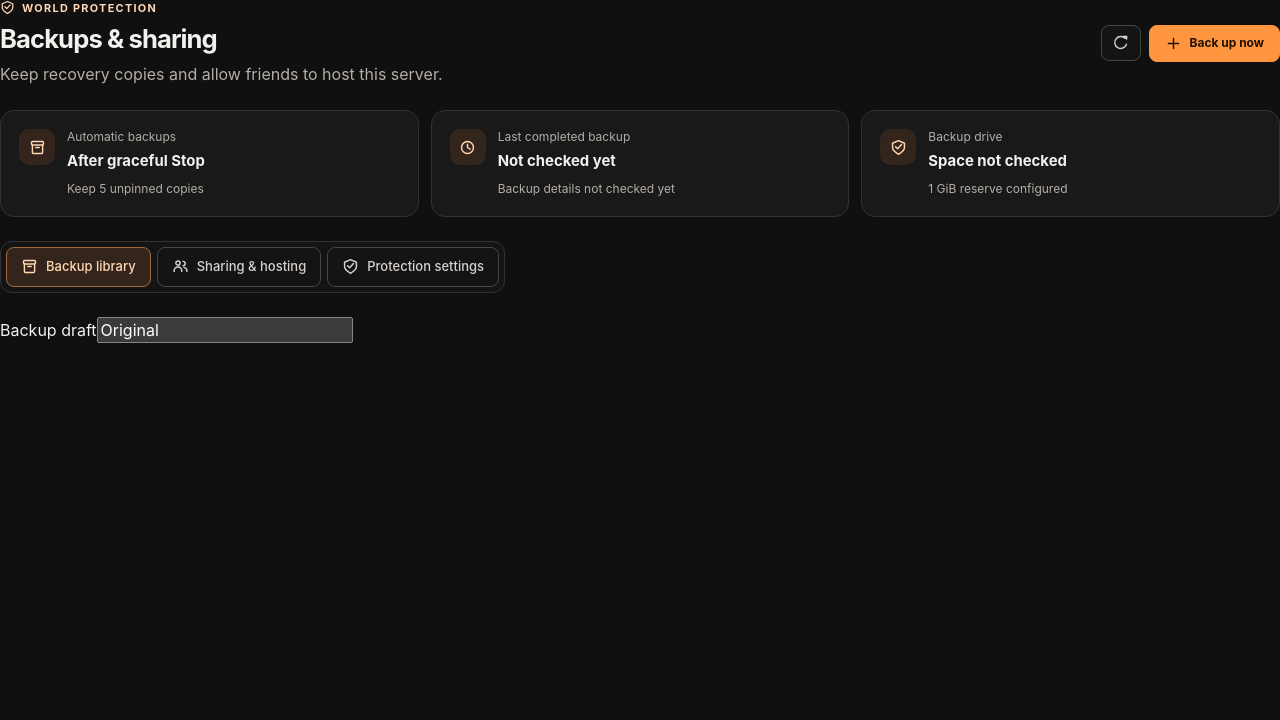
Host world protection workspace › opens a focused editor and saves only after an explicit choice
Click the button "Protection settings" at [413, 267], box [327,247,499,287]
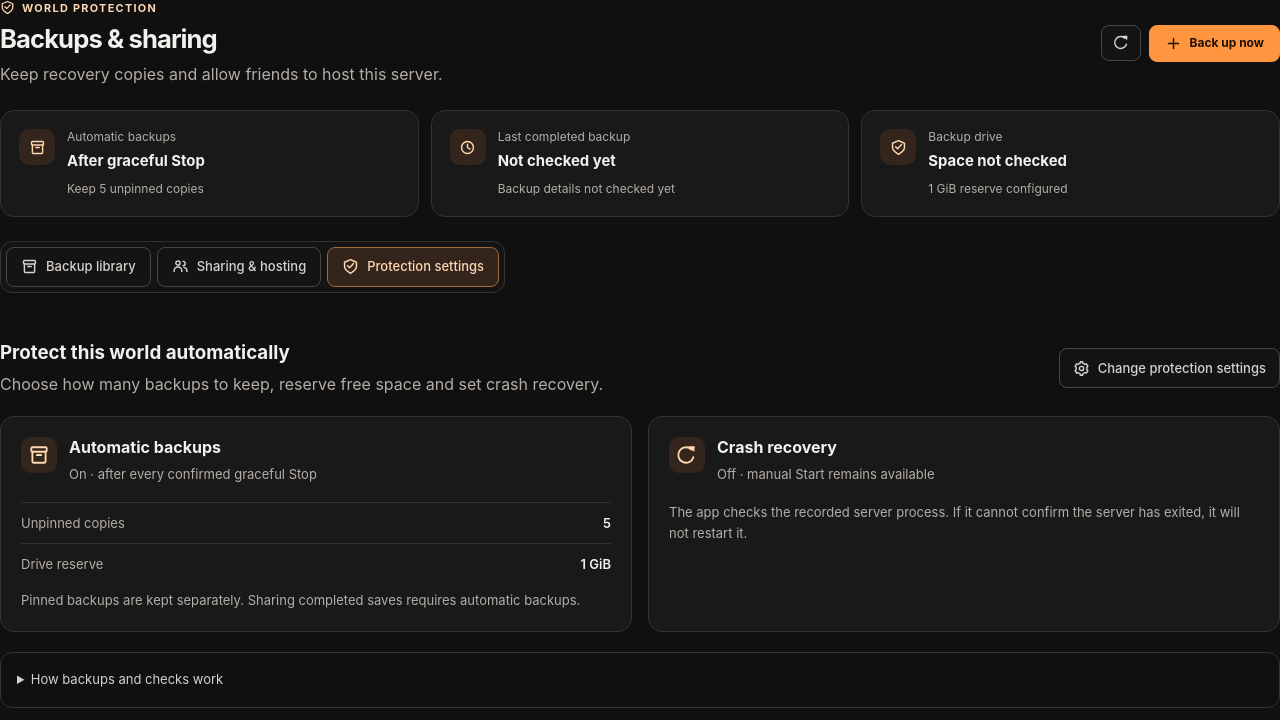
Click the button "Change protection settings" at [1169, 368], box [1059,348,1279,388]
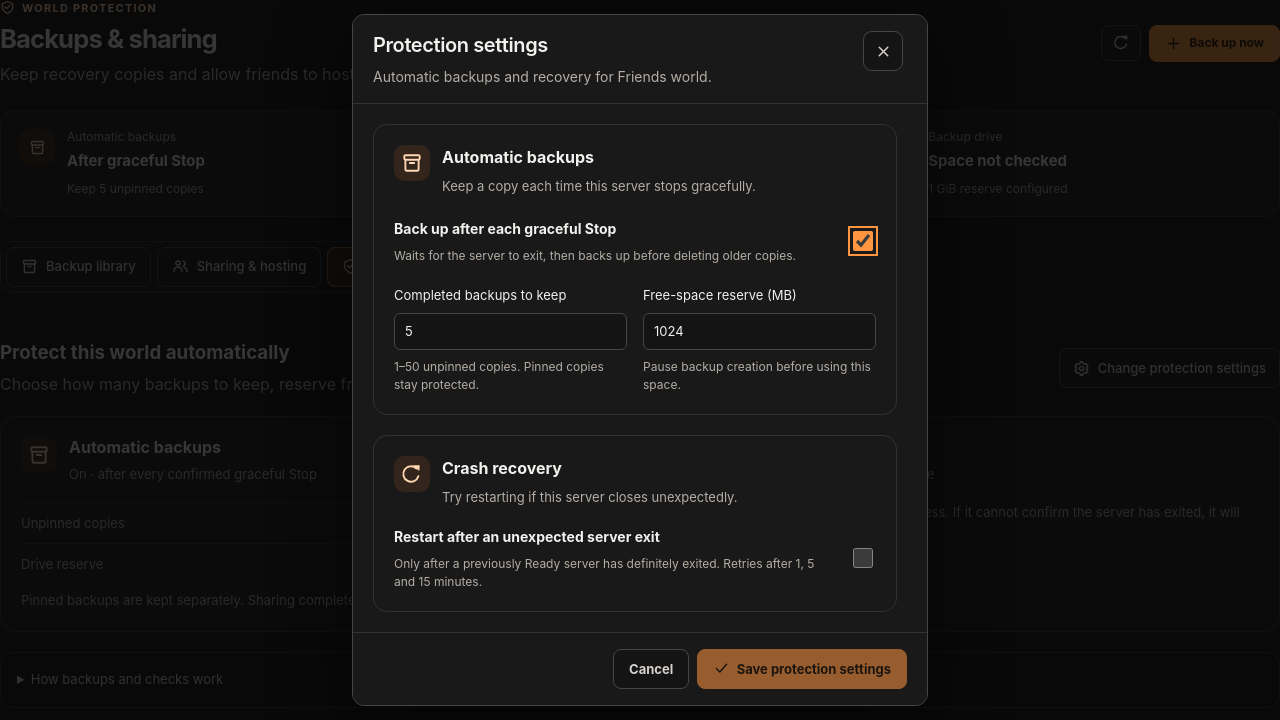
Check: the button "Save protection settings" is disabled, box [697,649,907,689]
Replace the text in the number field labelled "Completed backups to keep" with "8" at [510, 331], box [394,313,627,350]
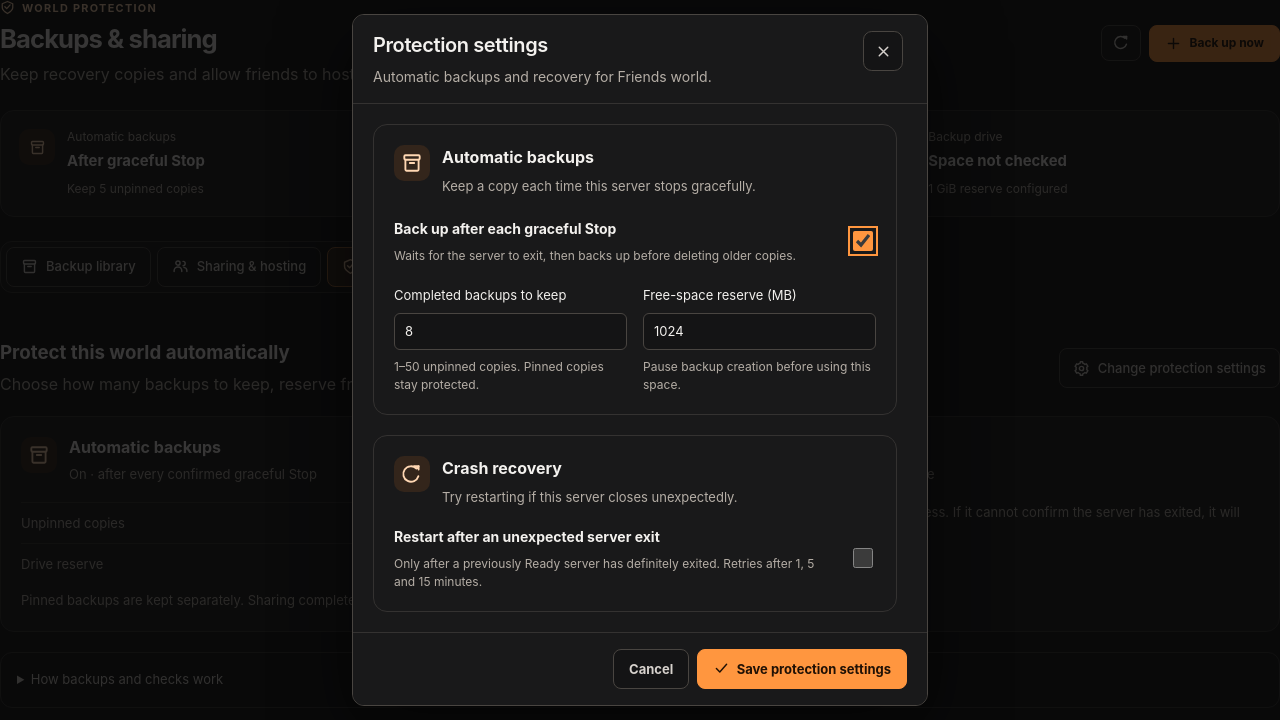
Click the checkbox labelled "Restart after an unexpected server exit" at [863, 558], box [853,548,873,568]
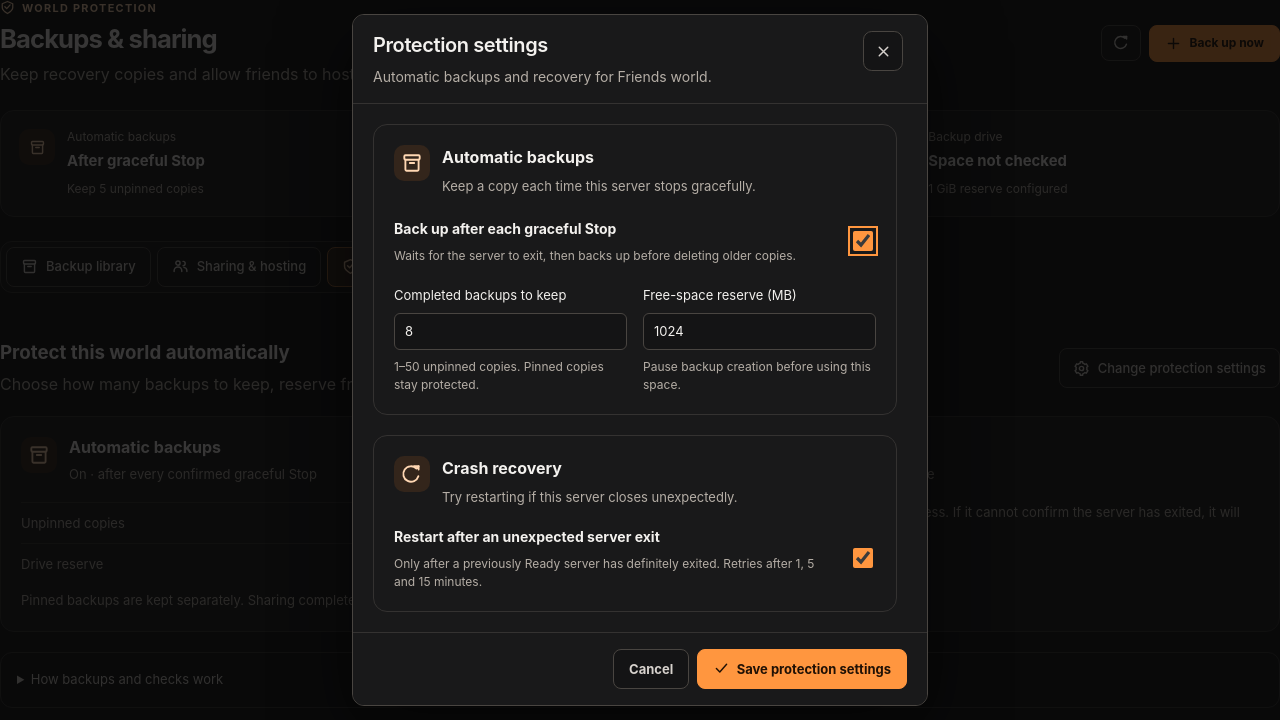
Click the button "Save protection settings" at [802, 669], box [697,649,907,689]
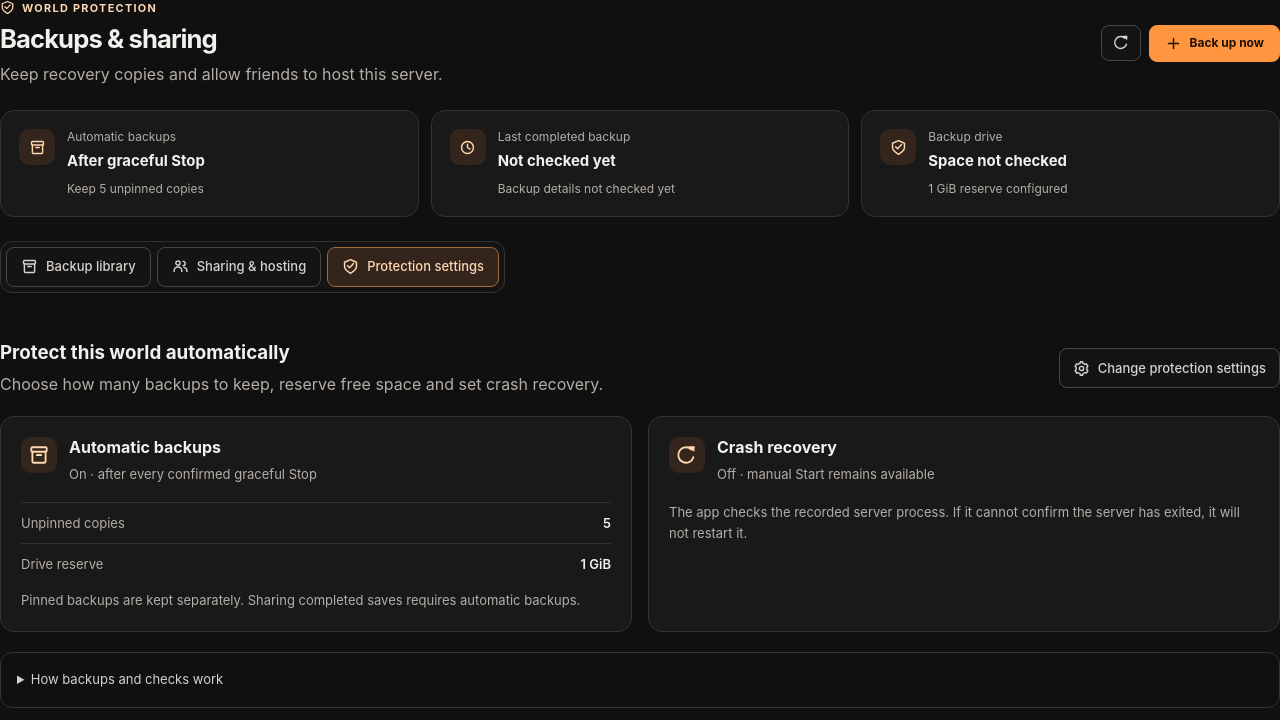
Check: the dialog is gone
